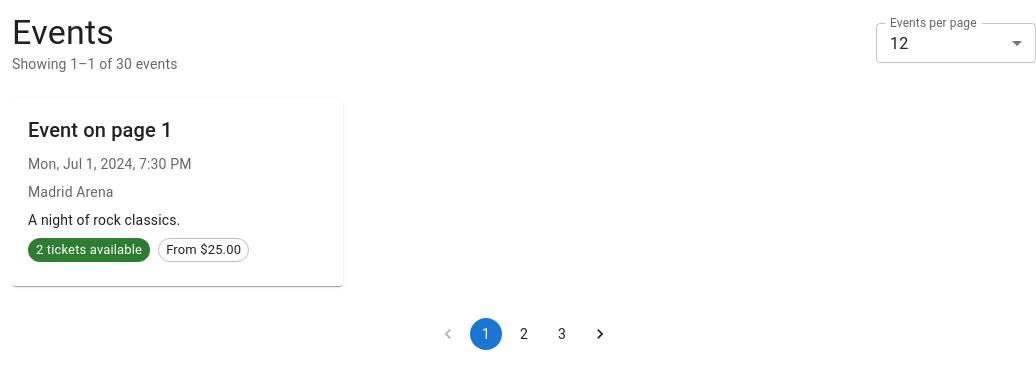
Test: EventsPage › requests the next page when the user paginates
This screenshot has width=1036, height=367.
Expected: the heading "Event on page 1" is shown, left=28, top=118, right=173, bottom=142
Step 1. Click the button named "go to page 2" → (524,334), box left=508, top=318, right=540, bottom=350
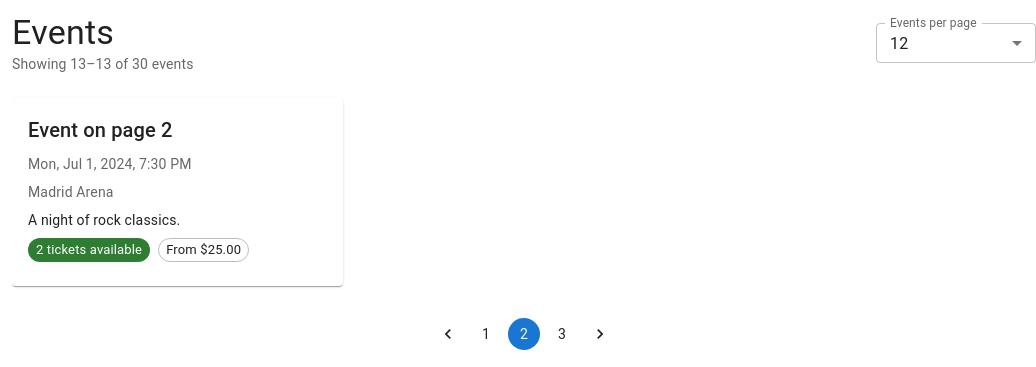
Now the heading "Event on page 2" is shown, box left=28, top=118, right=173, bottom=142
